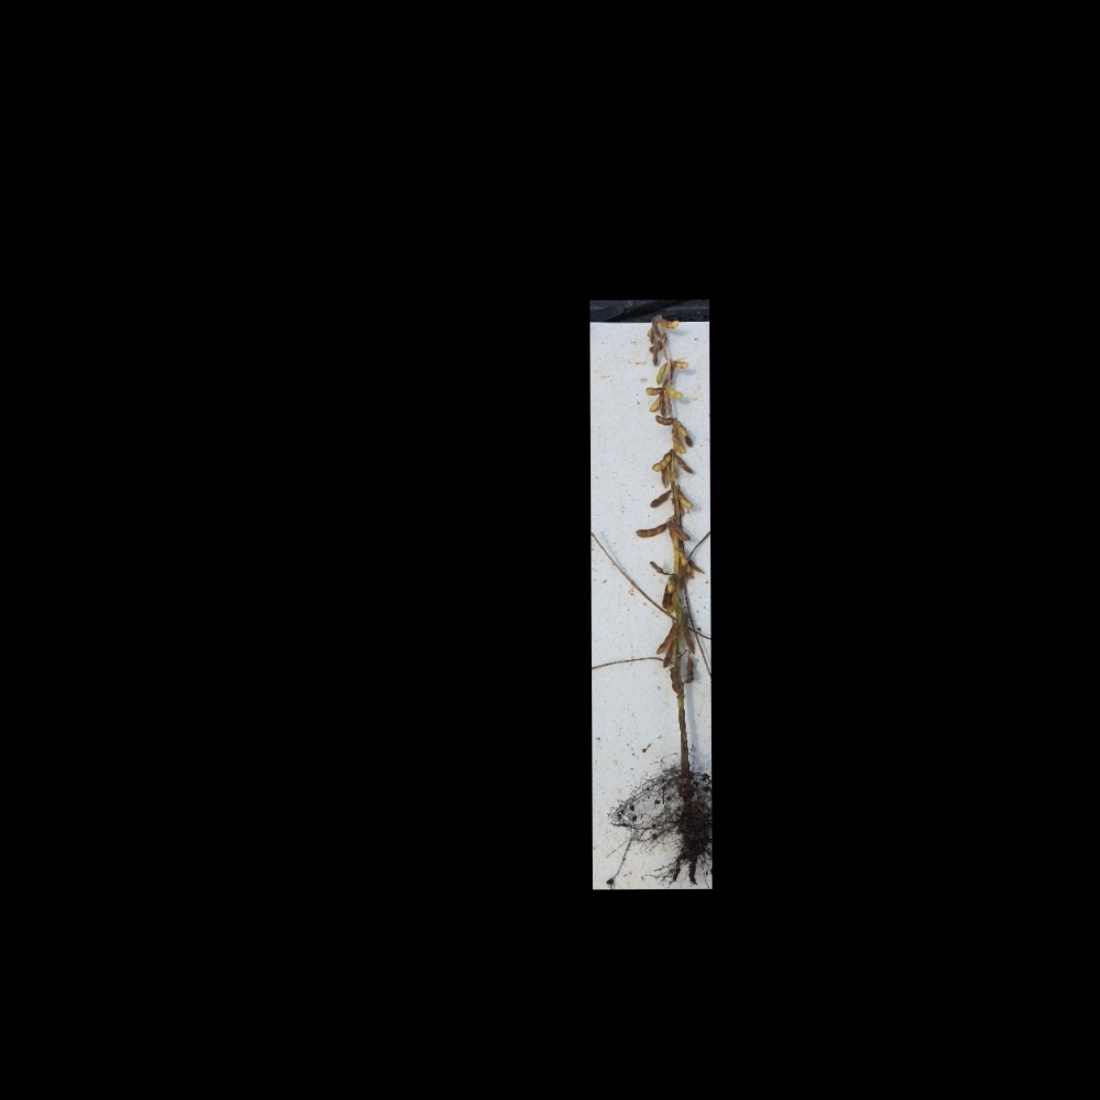pod: (633, 519, 669, 541), (675, 452, 698, 479), (649, 450, 672, 473), (646, 489, 672, 508), (661, 642, 676, 670), (677, 488, 695, 510), (660, 314, 681, 332), (653, 361, 668, 386), (670, 354, 688, 374), (654, 413, 672, 427)
soy: (606, 306, 707, 852)
